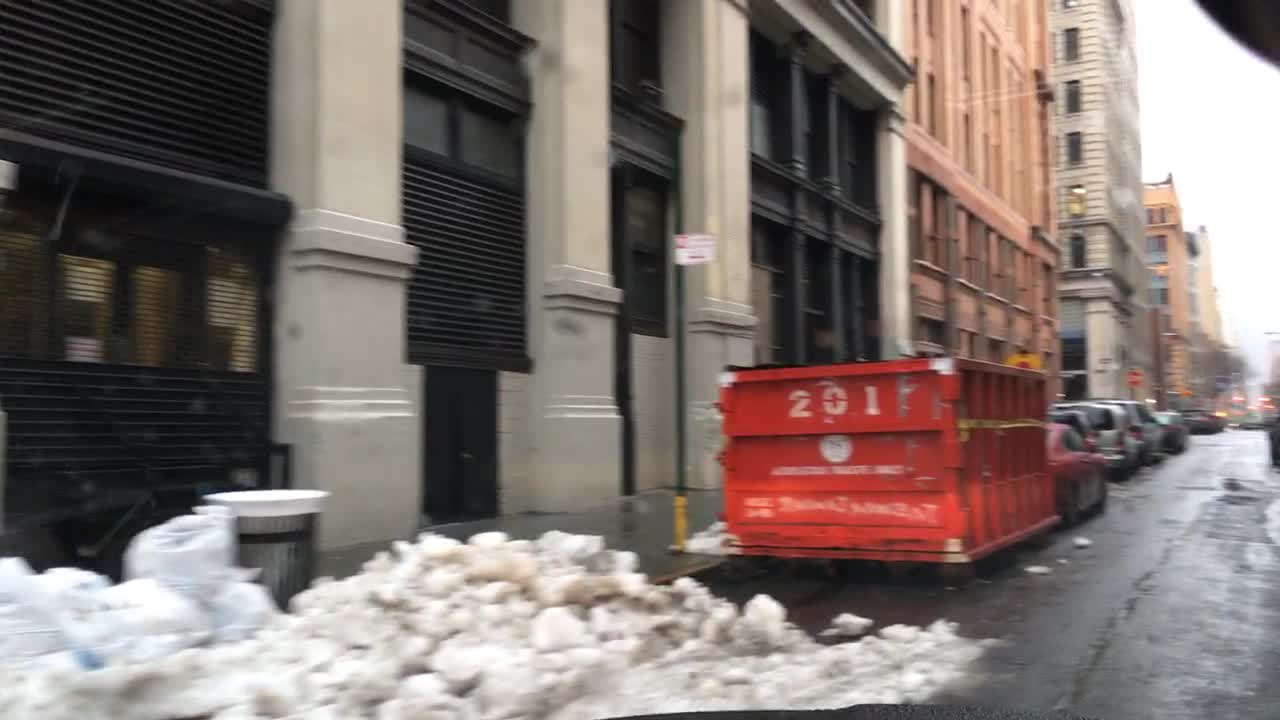car: (1055, 401, 1137, 477), (1047, 423, 1109, 521), (1119, 398, 1167, 465), (1155, 408, 1188, 455), (1058, 407, 1092, 440), (1182, 407, 1212, 432), (1268, 419, 1278, 464), (1239, 415, 1262, 428), (1212, 411, 1224, 429)
traffic sign: (670, 233, 713, 263), (1005, 353, 1034, 371), (1127, 371, 1140, 387), (1151, 383, 1170, 393), (1179, 384, 1194, 395)
